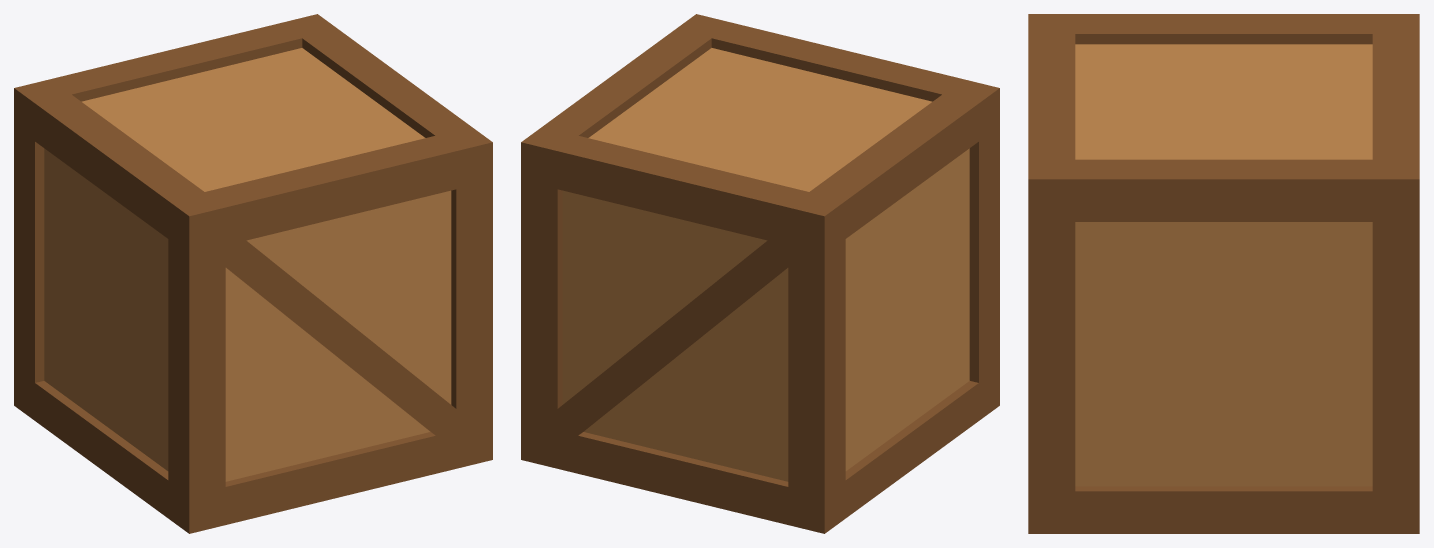
Rendered from crate.glb.
3 views of the same model, side by side, from view 1: azimuth 30°, elevation 25°; view 2: azimuth 150°, elevation 25°; view 3: azimuth 270°, elevation 25° (orthographic). The views are drawn at different scales.
Visible parts, largest first — view 1: crate_wood_dark, crate_wood; view 2: crate_wood_dark, crate_wood; view 3: crate_wood, crate_wood_dark.
Boxes of the visible parts, box(x1,y1,x2,y2) form: crate_wood_dark: box(14, 14, 492, 533); crate_wood: box(44, 48, 451, 481); crate_wood_dark: box(521, 14, 999, 533); crate_wood: box(562, 48, 969, 481); crate_wood: box(1075, 44, 1372, 486); crate_wood_dark: box(1028, 14, 1419, 533).
Bounding box in the file's own units: 0.5 × 0.5 × 0.5.
